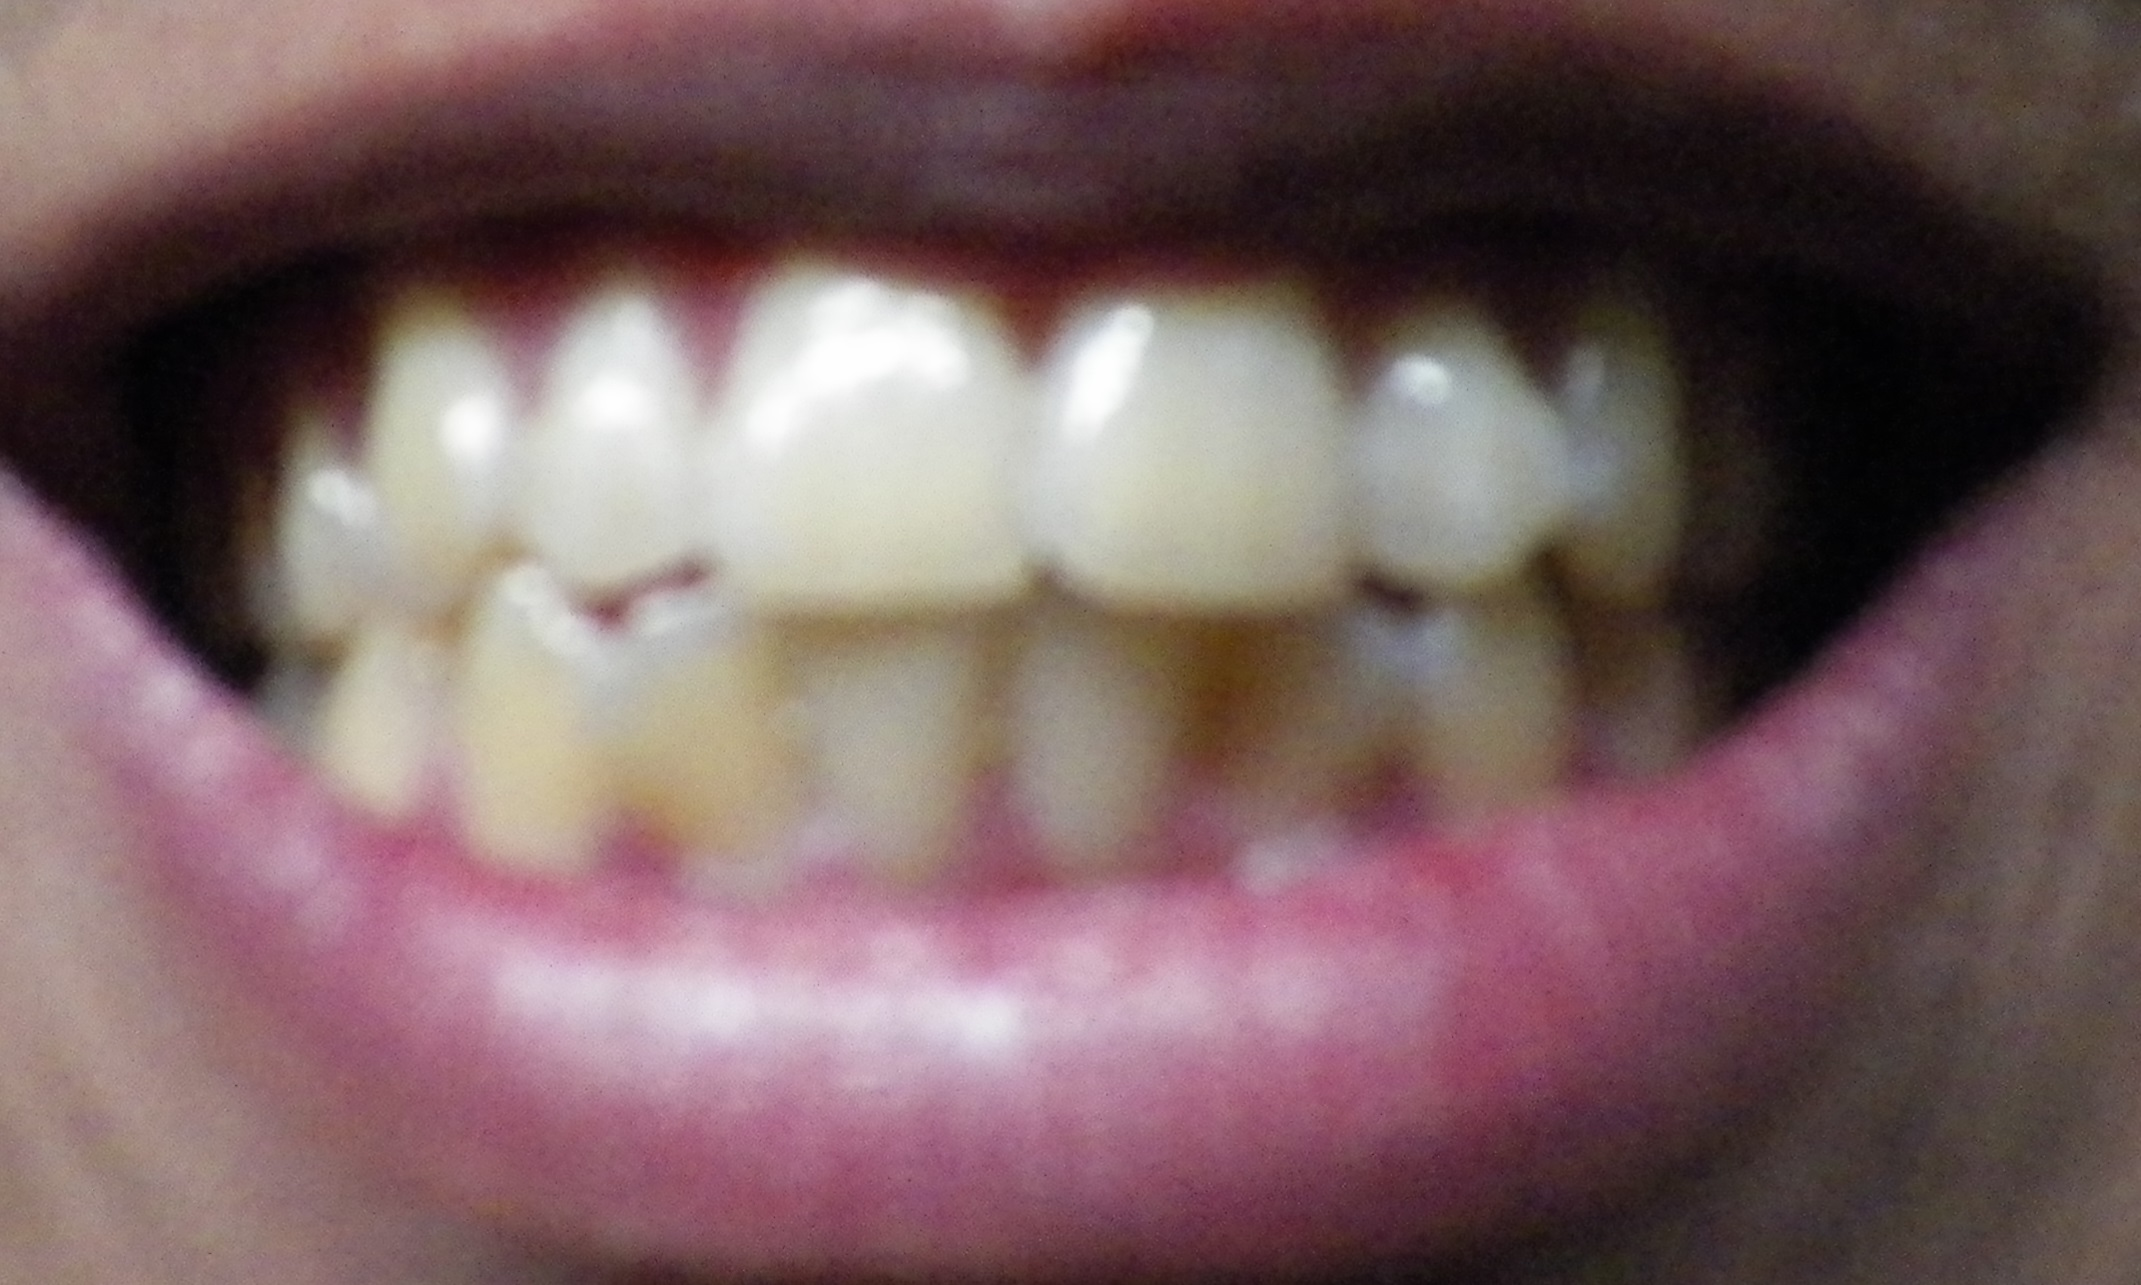boca: (216, 269, 1759, 861)
